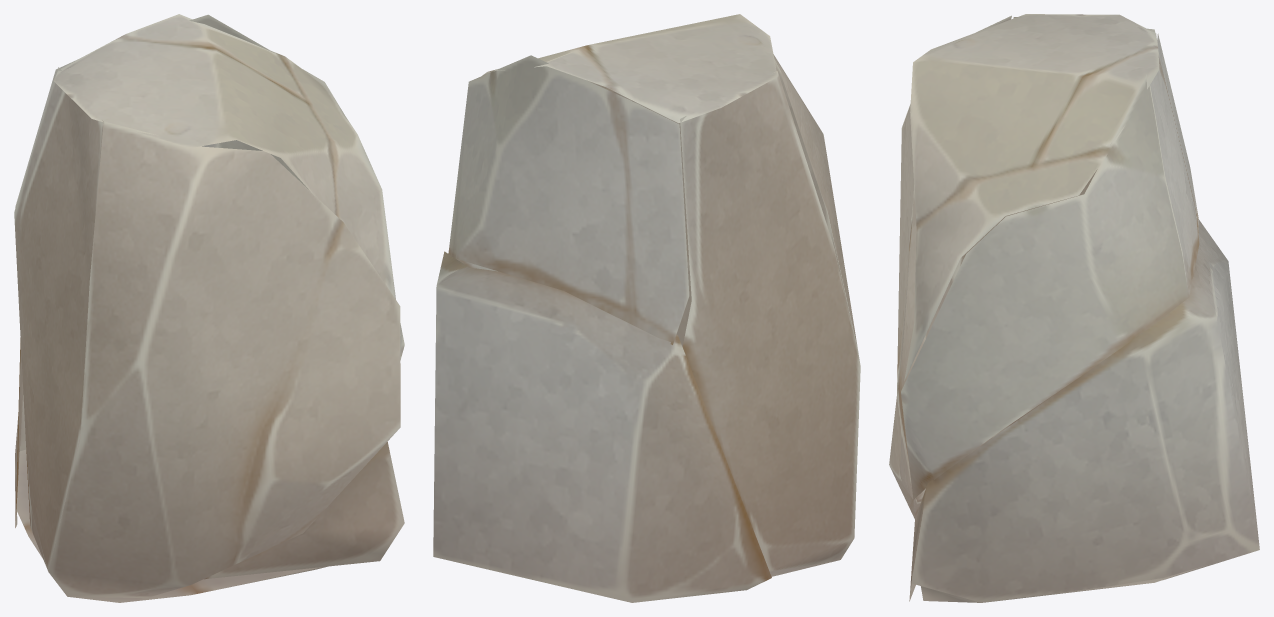
Rendered from rock3_lod1.gltf.
3 views of the same model, side by side, from view 1: azimuth 30°, elevation 25°; view 2: azimuth 150°, elevation 25°; view 3: azimuth 270°, elevation 25° (orthographic). The views are drawn at different scales.
Visible parts, largest first — view 1: Rock8; view 2: Rock8; view 3: Rock8.
Part boxes in pixels (x1,y1,x2,y2): Rock8: (14, 14, 404, 602); Rock8: (433, 14, 860, 602); Rock8: (889, 14, 1259, 602).
Size of the model in its own units: 0.8761 by 1.26 by 0.8508.
1 material, 1 textured.
